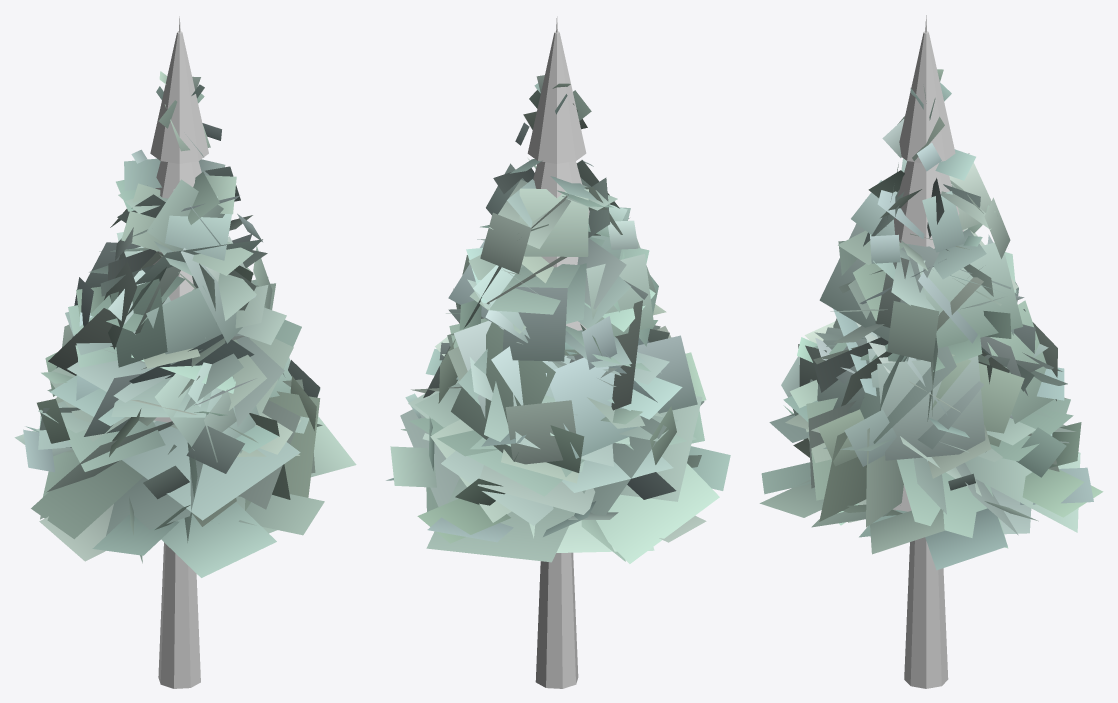
File: tree_pine.glb
3 views of the same model, side by side, from view 1: azimuth 30°, elevation 25°; view 2: azimuth 150°, elevation 25°; view 3: azimuth 270°, elevation 25° (orthographic).
Parts seen in each view (by area): view 1: tree_pine; view 2: tree_pine; view 3: tree_pine.
Part boxes in pixels (x1,y1,x2,y2): tree_pine: (14, 16, 356, 688); tree_pine: (386, 16, 730, 688); tree_pine: (759, 15, 1103, 688).
Size of the model in its own units: 3.59 by 8 by 3.75.
